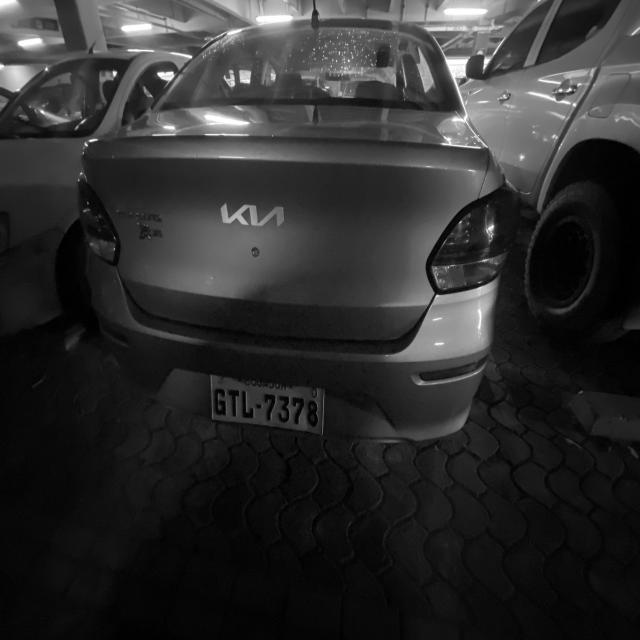Placa: (211, 376, 324, 434)
